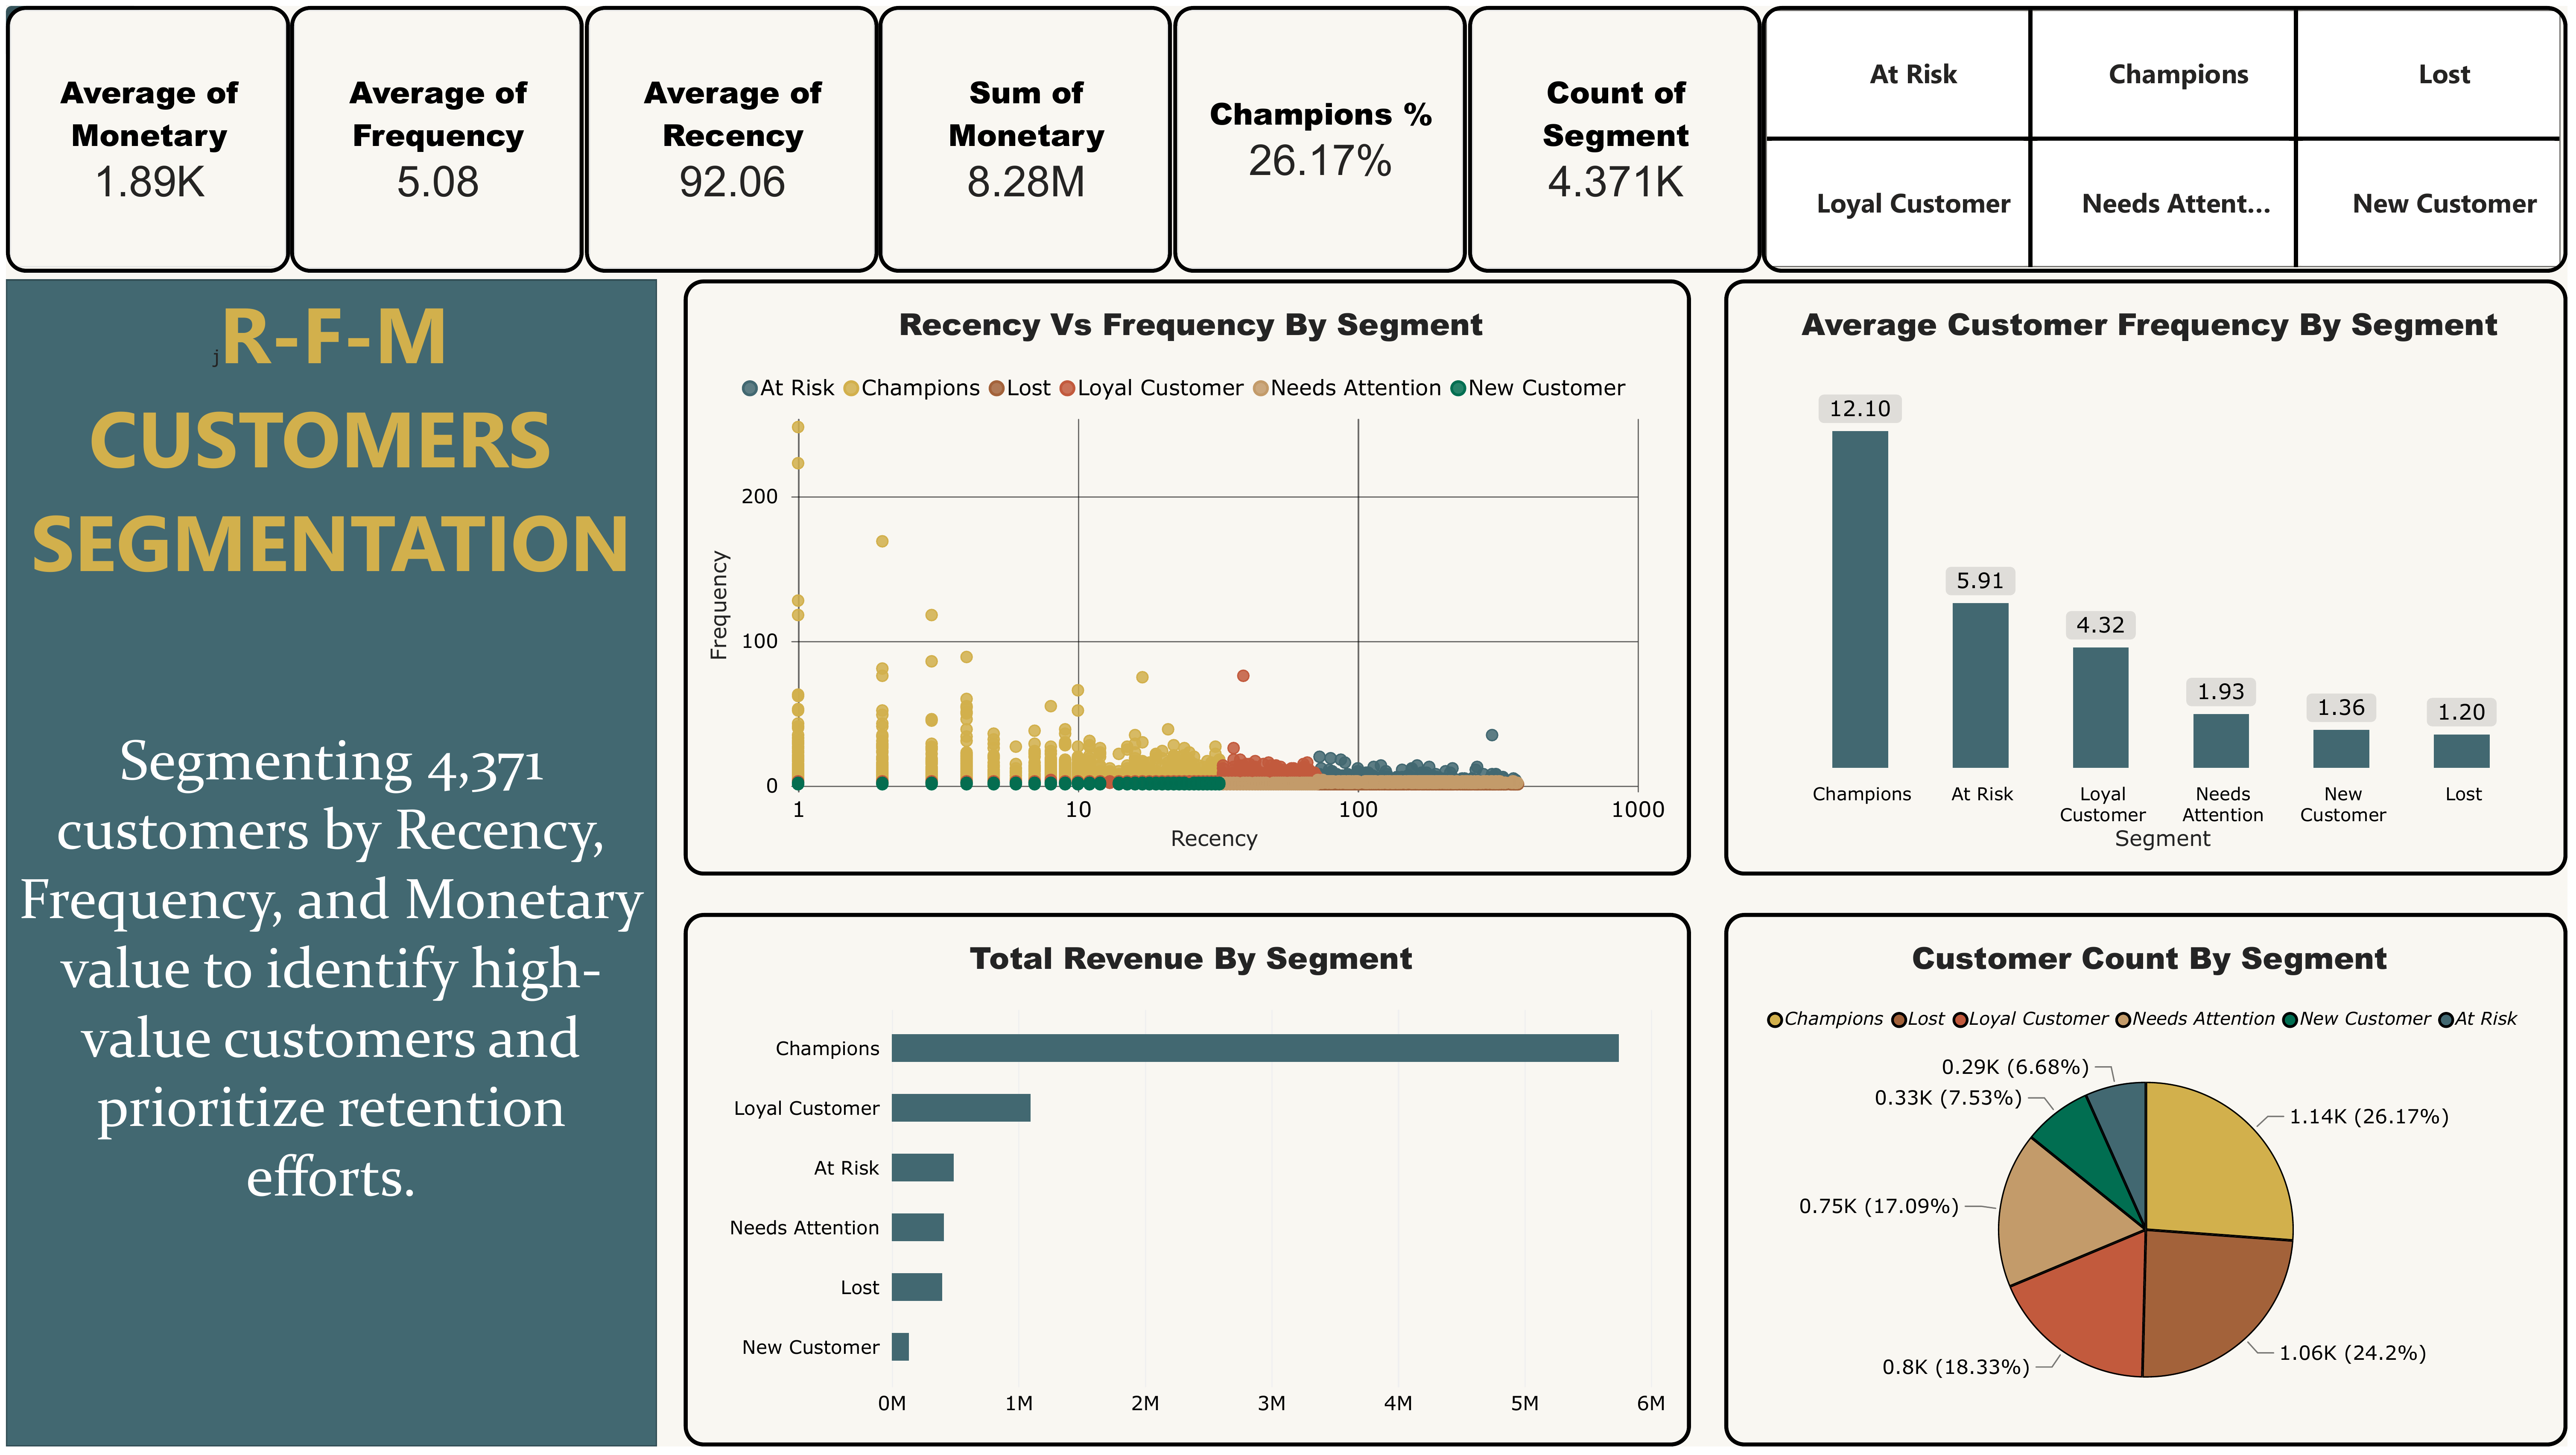

What the dashboard file says about the page in this screenshot:
{"tool":"powerbi","page":{"name":"Page 1","canvas":[1920,1080],"ordinal":0},"visuals":[{"type":"cardVisual","fields":{"Data":["CountNonNull(rfm_segments.Segment)"]},"box":[1095.8,0,220,200],"z":0},{"type":"cardVisual","fields":{"Data":["Sum(rfm_segments.Monetary)"]},"box":[654.4,0,220,200],"z":1000},{"type":"cardVisual","fields":{"Data":["Avg(rfm_segments.Recency)"]},"box":[433.7,0,220,200],"z":2000},{"type":"cardVisual","fields":{"Data":["rfm_segments.Champions %"]},"box":[875.1,0,220,200.2],"z":3000},{"type":"barChart","title":"Total Revenue By Segment","fields":{"Category":["rfm_segments.Segment"],"Y":["Sum(rfm_segments.Monetary)"]},"box":[508.1,680,754.5,400.3],"z":4000},{"type":"scatterChart","title":"Recency Vs Frequency By Segment","fields":{"Series":["rfm_segments.Segment"],"X":["rfm_segments.Recency"],"Y":["rfm_segments.Frequency"]},"box":[508.1,205.3,754.5,446.5],"z":5000},{"type":"columnChart","title":"Average Customer Frequency By Segment","fields":{"Category":["rfm_segments.Segment"],"Y":["Avg(rfm_segments.Frequency)"]},"box":[1288.2,205.3,631.3,446.5],"z":6000},{"type":"actionButton","box":[0,0,100,40],"z":7000},{"type":"pieChart","title":"Customer Count By Segment","fields":{"Category":["rfm_segments.Segment"],"Y":["CountNonNull(rfm_segments.CustomerID)"]},"box":[1288.2,680,631.3,400.3],"z":8000},{"type":"advancedSlicerVisual","fields":{"Values":["rfm_segments.Segment"]},"box":[1316.4,0,603.1,200.2],"z":9000},{"type":"cardVisual","fields":{"Data":["Avg(rfm_segments.Frequency)"]},"box":[213,0,220,200],"z":10000},{"type":"cardVisual","fields":{"Data":["Avg(rfm_segments.Monetary)"]},"box":[-7.5,0,220,200],"z":11000},{"type":"shape","box":[0,205.3,487.6,875.1],"z":12000},{"type":"textbox","box":[0,205.3,487.6,333.6],"z":13000},{"type":"textbox","box":[0,538.9,487.6,541.5],"z":14000}]}

Visuals, with their boxes in screenshot pixels (x1, y1, x2, y2), scaled from the page's 1920x1080 canvas onto the 2576x1455 screenshot:
cardVisual - CountNonNull(rfm_segments.Segment): <bbox>1470, 0, 1765, 269</bbox>
cardVisual - Sum(rfm_segments.Monetary): <bbox>878, 0, 1173, 269</bbox>
cardVisual - Avg(rfm_segments.Recency): <bbox>582, 0, 877, 269</bbox>
cardVisual - rfm_segments.Champions %: <bbox>1174, 0, 1469, 270</bbox>
"Total Revenue By Segment" barChart: <bbox>682, 916, 1694, 1455</bbox>
"Recency Vs Frequency By Segment" scatterChart: <bbox>682, 277, 1694, 878</bbox>
"Average Customer Frequency By Segment" columnChart: <bbox>1728, 277, 2575, 878</bbox>
actionButton: <bbox>0, 0, 134, 54</bbox>
"Customer Count By Segment" pieChart: <bbox>1728, 916, 2575, 1455</bbox>
advancedSlicerVisual - rfm_segments.Segment: <bbox>1766, 0, 2575, 270</bbox>
cardVisual - Avg(rfm_segments.Frequency): <bbox>286, 0, 581, 269</bbox>
cardVisual - Avg(rfm_segments.Monetary): <bbox>0, 0, 285, 269</bbox>
shape: <bbox>0, 277, 654, 1455</bbox>
textbox: <bbox>0, 277, 654, 726</bbox>
textbox: <bbox>0, 726, 654, 1455</bbox>
